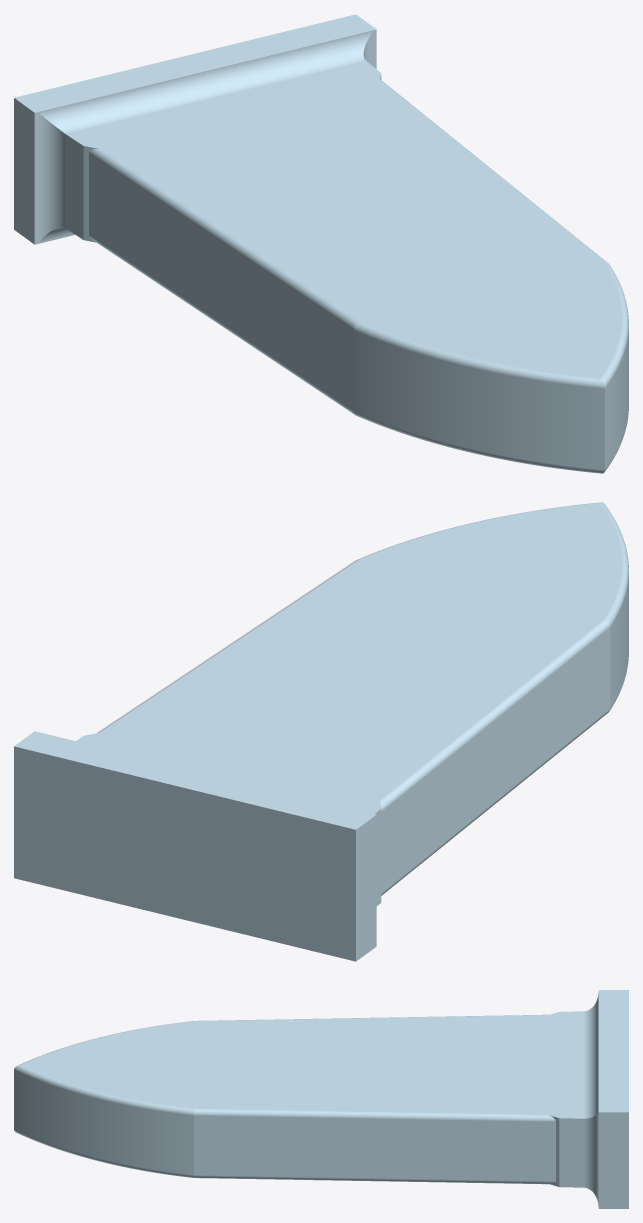
The picture shows the model from 3 angles, top to bottom: view 1: azimuth 30°, elevation 25°; view 2: azimuth 150°, elevation 25°; view 3: azimuth 270°, elevation 25°; orthographic projection. The views are drawn at different scales.
Parts seen in each view (by area): view 1: PA-402-F_LOD0; view 2: PA-402-F_LOD0; view 3: PA-402-F_LOD0.
Part boxes in pixels (box(x1,y1,x2,y2)): PA-402-F_LOD0: box(14, 14, 628, 473); PA-402-F_LOD0: box(14, 502, 628, 961); PA-402-F_LOD0: box(14, 990, 628, 1208).
Size of what is drawn, in the model's own units: 86.87 by 32 by 185.
